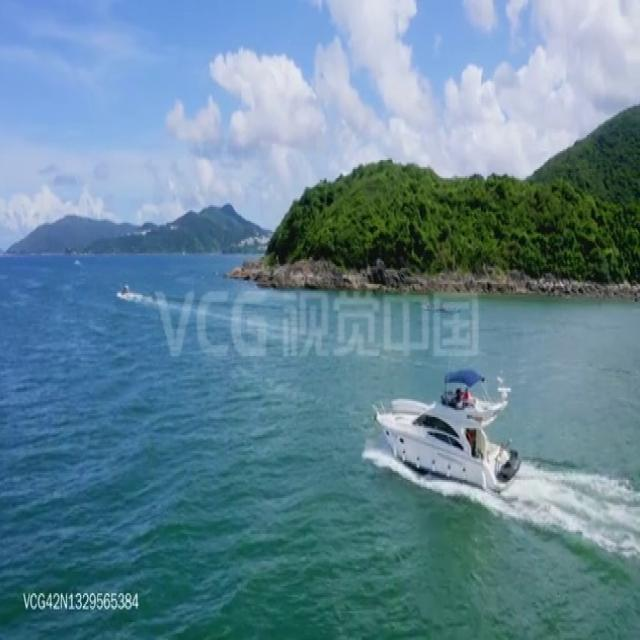houseboat: (370, 361, 522, 485), (114, 278, 134, 298)
